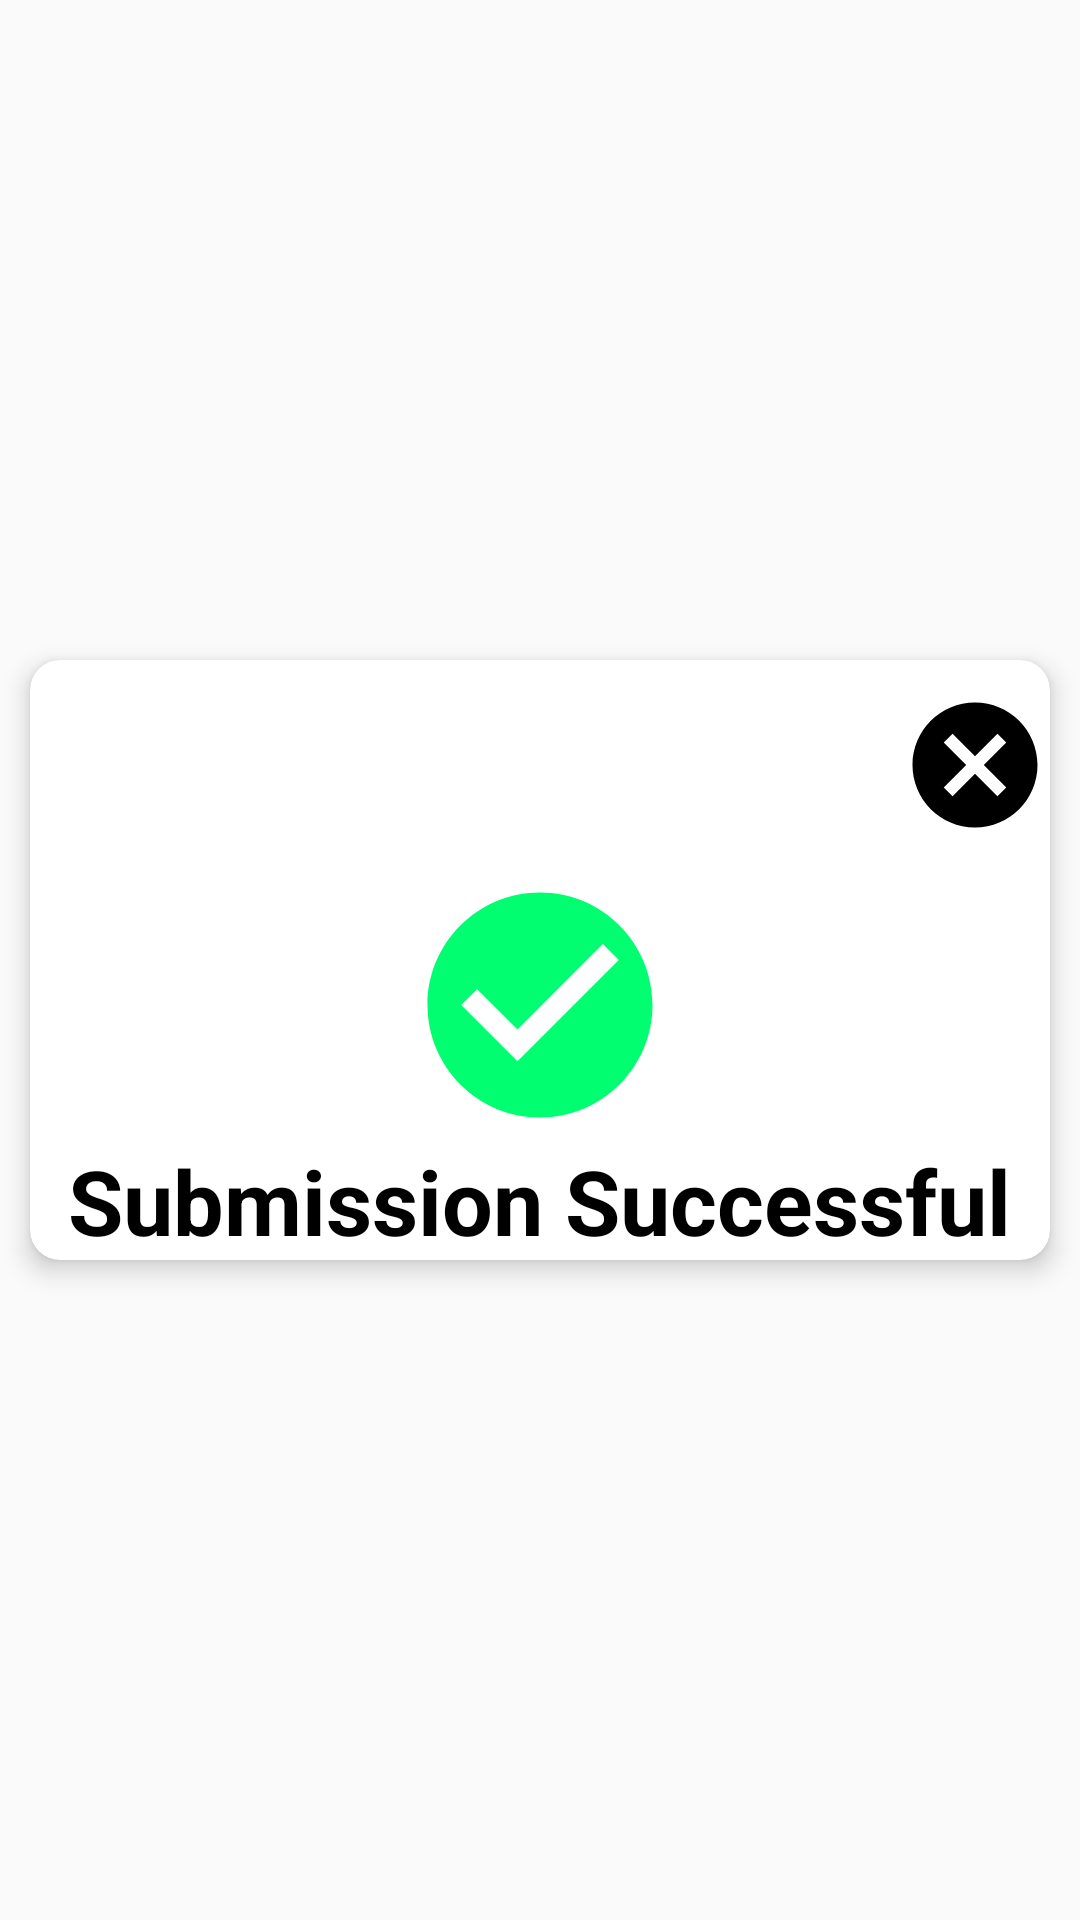

Icons on this 1080px×1920px Android screen, each with its box as [x1, y1, x2, y2]:
cancel: [912, 702, 1038, 828]
check circle: [427, 892, 653, 1118]
